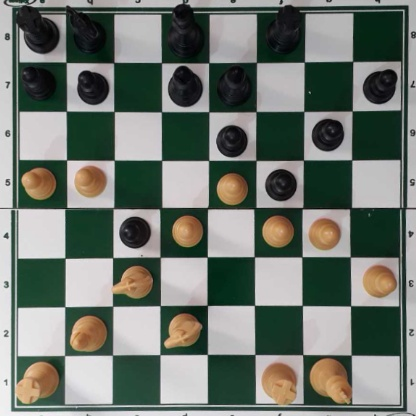black-bishop: (166, 65, 203, 106), (216, 65, 253, 105)
black-king: (166, 1, 205, 58)
black-knight: (65, 6, 106, 51)
black-pawn: (362, 67, 398, 104), (75, 69, 110, 105), (20, 64, 55, 99), (311, 116, 344, 152), (214, 123, 248, 157), (265, 166, 297, 201), (119, 216, 151, 248)
black-rook: (14, 1, 60, 53), (264, 4, 303, 53)
white-bishop: (68, 314, 108, 354)
white-king: (309, 356, 352, 406)
white-knight: (112, 264, 153, 299), (162, 314, 204, 347)
white-pawn: (360, 263, 397, 299), (307, 215, 341, 251), (213, 170, 249, 203), (21, 166, 57, 199), (73, 164, 107, 198), (170, 214, 204, 248), (261, 213, 294, 247)
white-rook: (14, 360, 59, 403), (261, 363, 298, 405)
